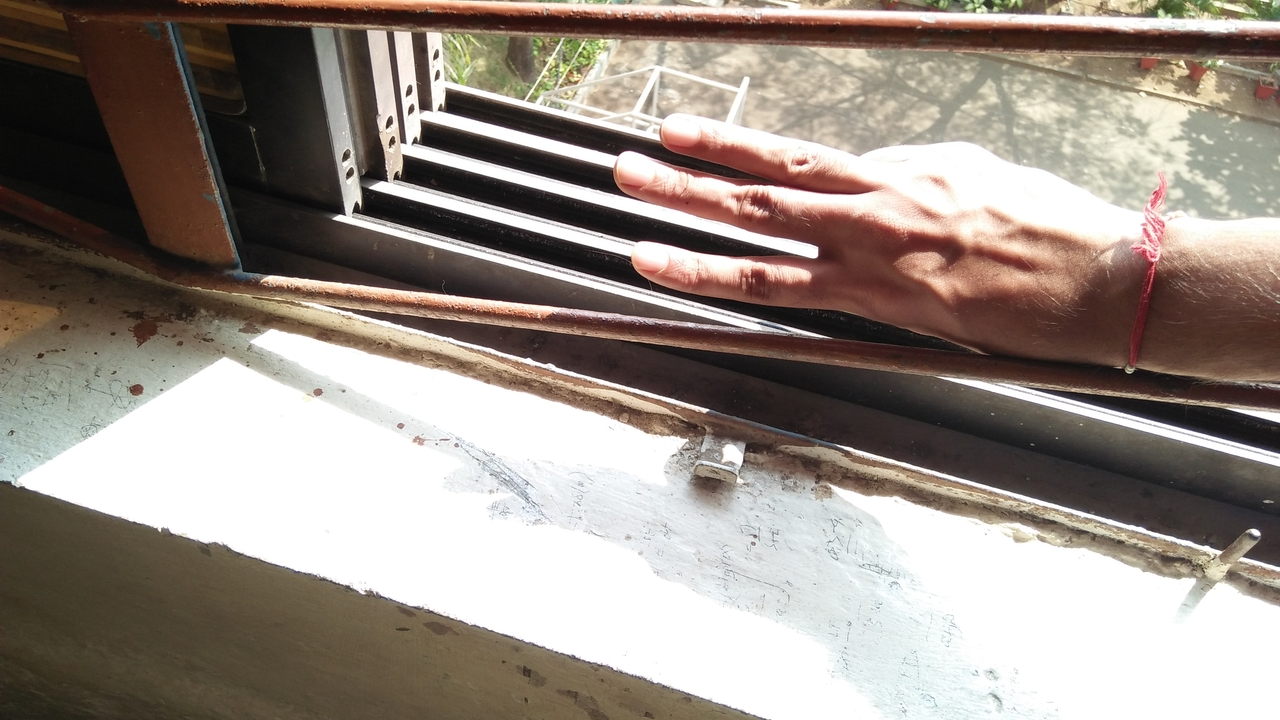fingertip: (598, 142, 659, 198), (650, 110, 712, 155), (619, 240, 675, 284)
